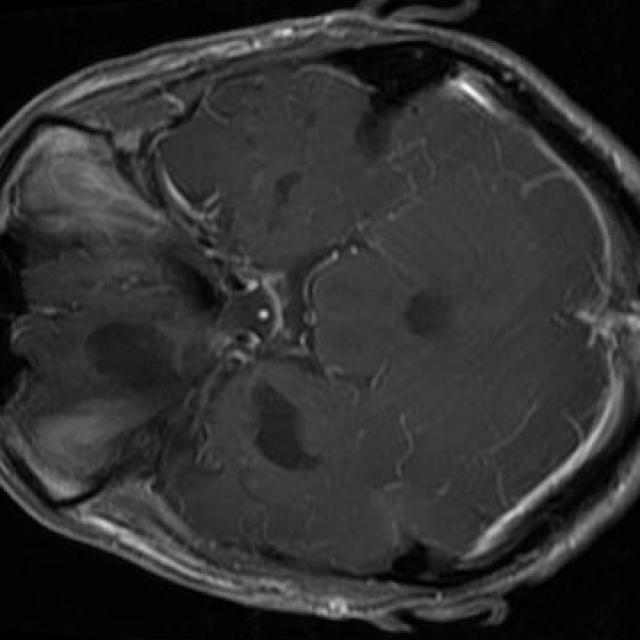glioma: (91, 324, 184, 410)
